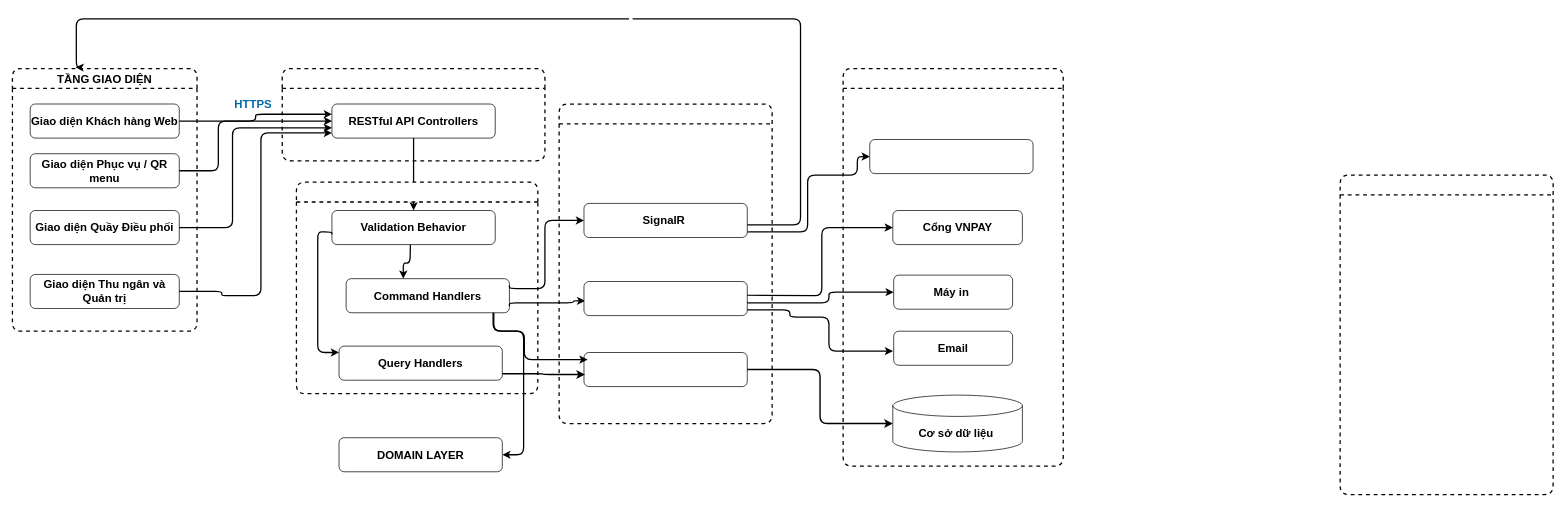
This 1566x508 diagram has some shape labels left out. The shapes that lost their labels are listed below. From the top down, each one's box as (x1, y1, x2, y2) in pixels, then its label:
(281, 68, 545, 161): PRESENTATION LAYER
(869, 139, 1033, 174): Màn hình Bếp KDS
(558, 103, 772, 424): INFRASTRUCTURE LAYER
(842, 68, 1064, 466): TẦNG CSDL VÀ THIẾT BỊ NGOÀI
(295, 181, 538, 394): APPLICATION LAYER
(583, 281, 747, 316): External Services
(583, 352, 747, 387): EF CORE
